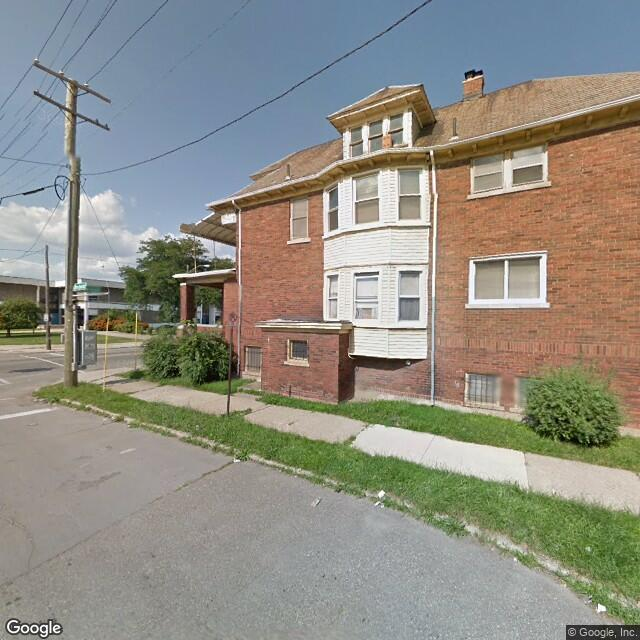litter: (597, 602, 606, 613), (310, 497, 319, 505), (377, 489, 387, 495), (231, 457, 242, 462), (585, 545, 592, 552), (374, 500, 380, 506), (551, 488, 558, 493), (513, 557, 520, 561), (102, 416, 108, 420)
